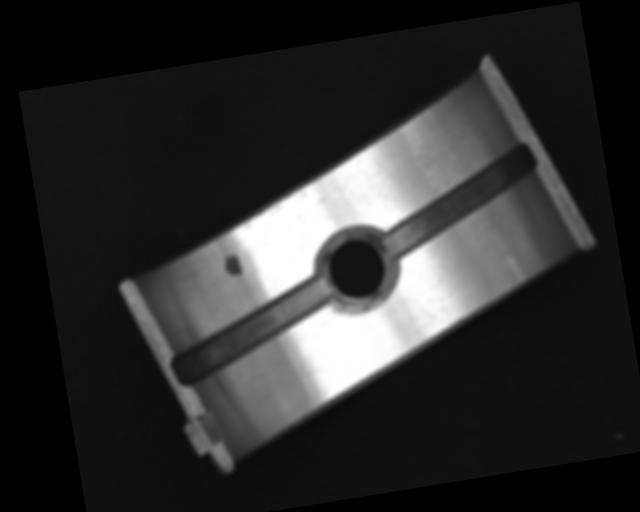blot: (221, 252, 243, 281)
gap: (370, 142, 549, 261), (163, 271, 339, 388)
hole: (318, 228, 397, 316)
